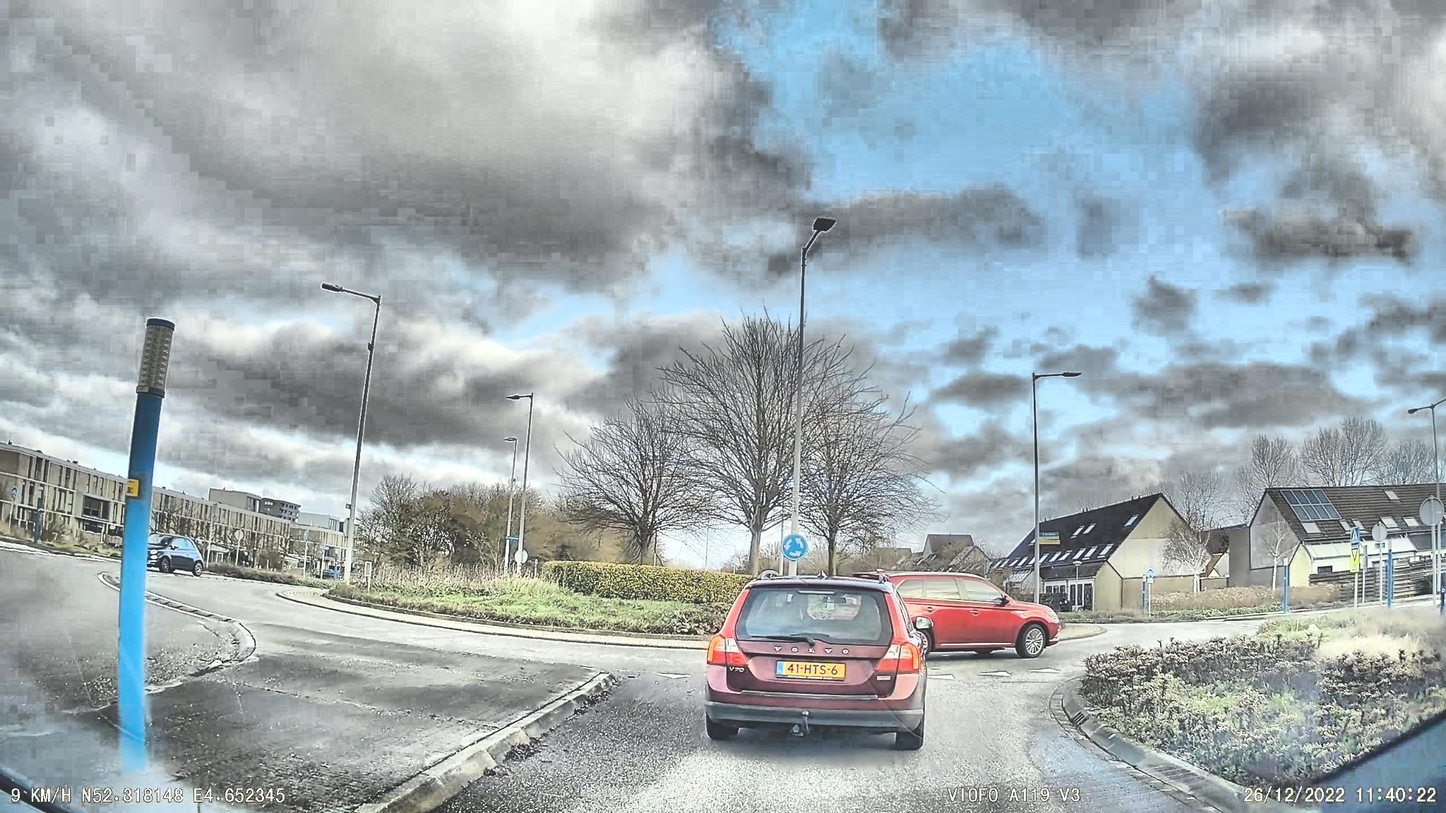Roads: (431, 644, 1208, 813)
